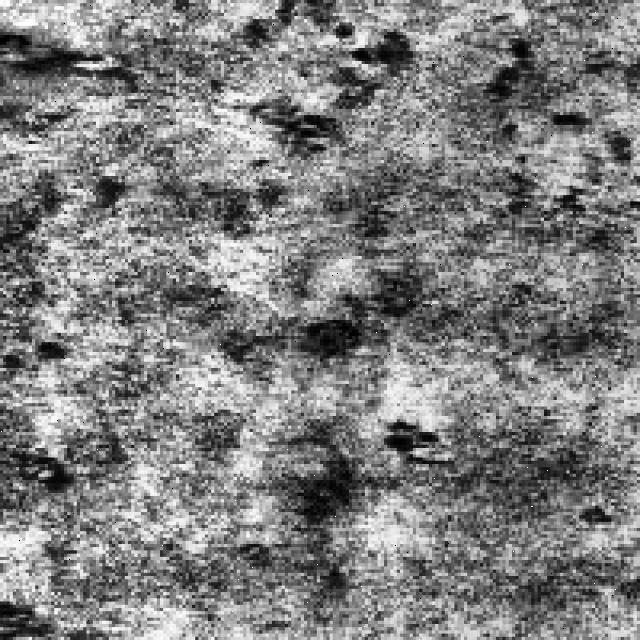Crazing: (218, 0, 394, 147), (486, 99, 640, 240)
